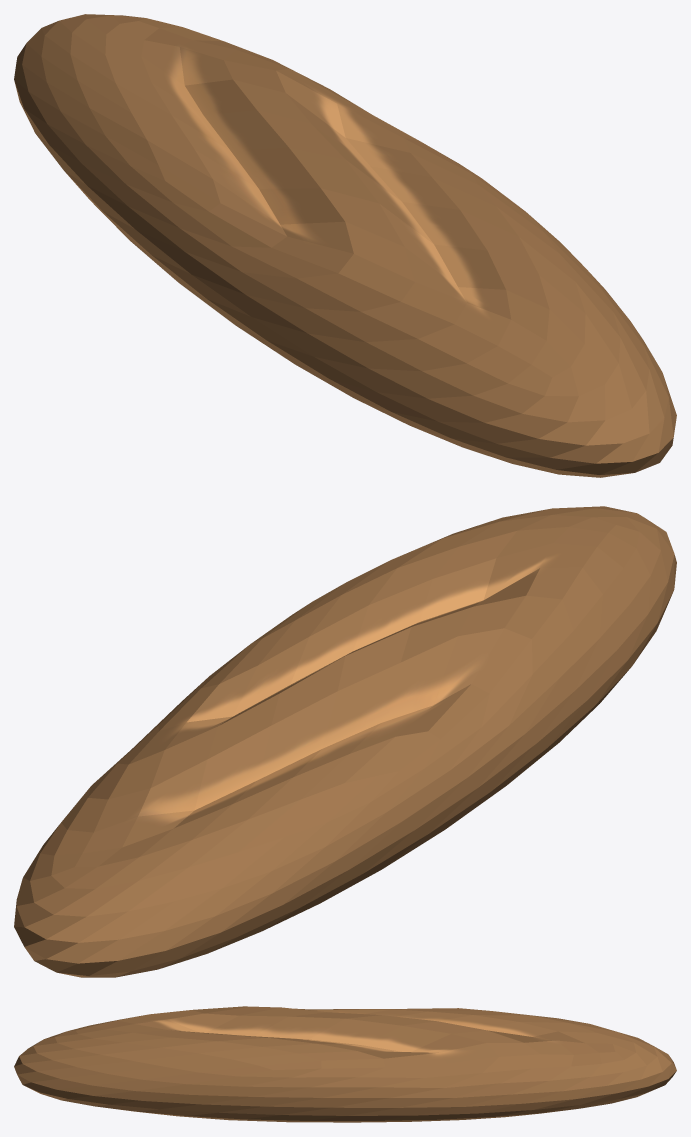
Rendered from french-loaf.fbx.
3 renders of one model, top to bottom at view 1: azimuth 30°, elevation 25°; view 2: azimuth 150°, elevation 25°; view 3: azimuth 270°, elevation 25°, orthographic. The views are drawn at different scales.
Parts seen in each view (by area): view 1: French Loaf; view 2: French Loaf; view 3: French Loaf.
Part boxes in pixels (x1,y1,x2,y2): French Loaf: (14,14,676,477); French Loaf: (14,506,676,977); French Loaf: (14,1006,676,1122).
Size of the model in its own units: 39.39 by 17.02 by 139.
